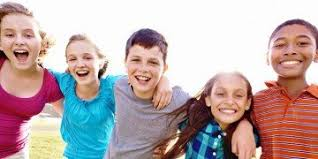without_mask: (268, 28, 317, 79), (1, 18, 44, 73), (205, 78, 252, 125), (124, 44, 167, 95), (67, 43, 102, 88)
